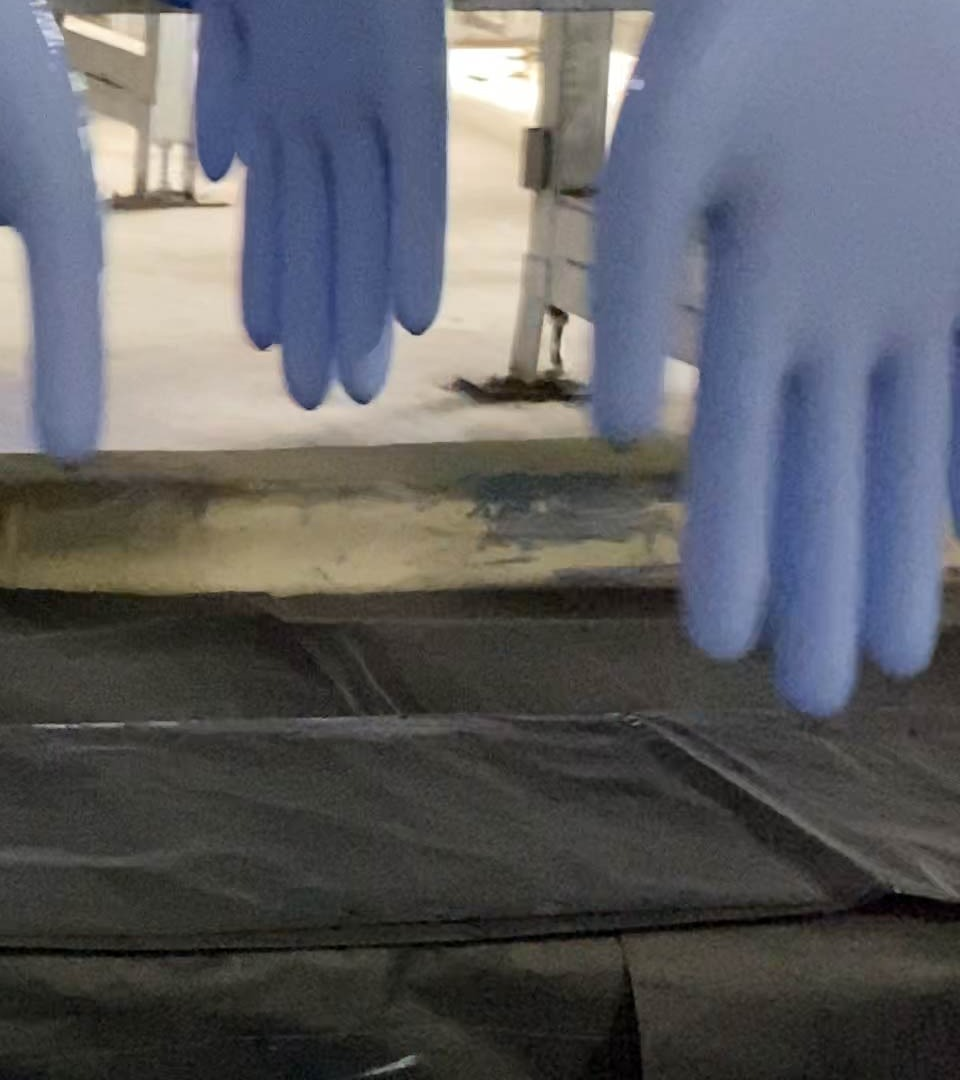glove: (581, 3, 960, 721), (190, 1, 457, 411)
